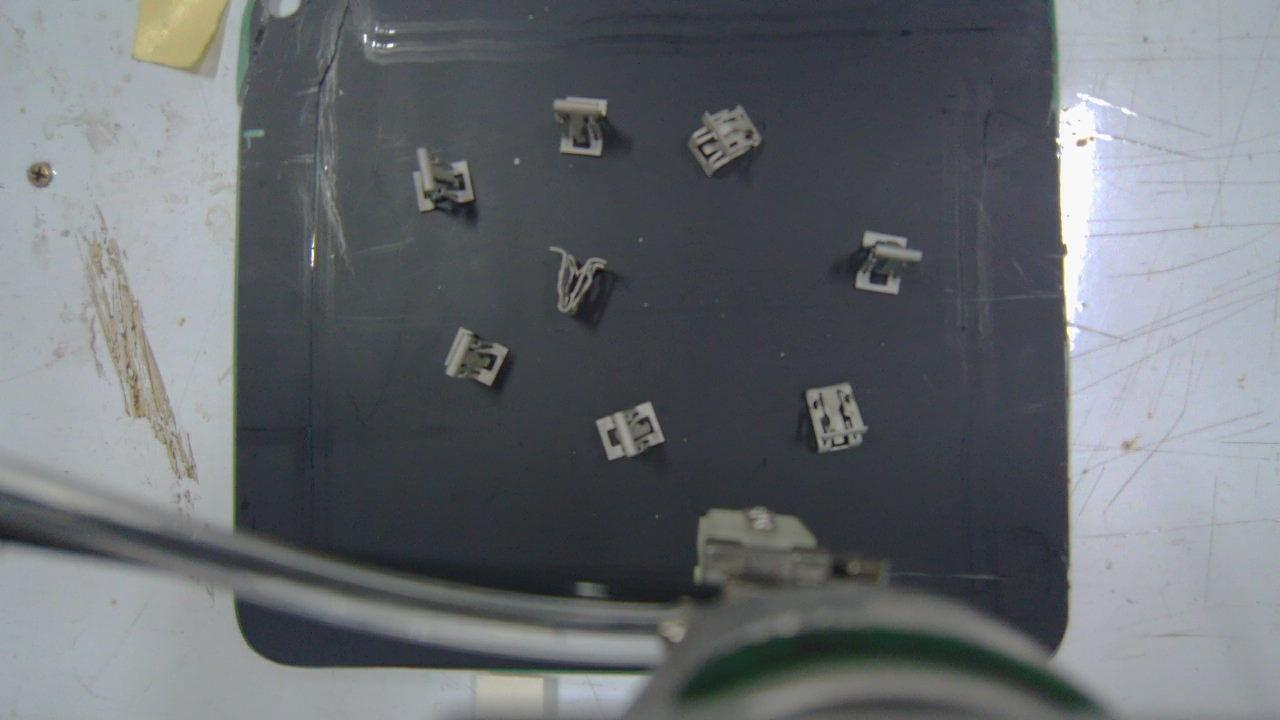ng: (689, 104, 761, 175), (853, 231, 921, 294), (807, 383, 866, 453), (550, 245, 607, 316), (412, 148, 475, 210), (444, 326, 507, 384), (554, 97, 606, 159)
pass: (596, 401, 665, 459)
